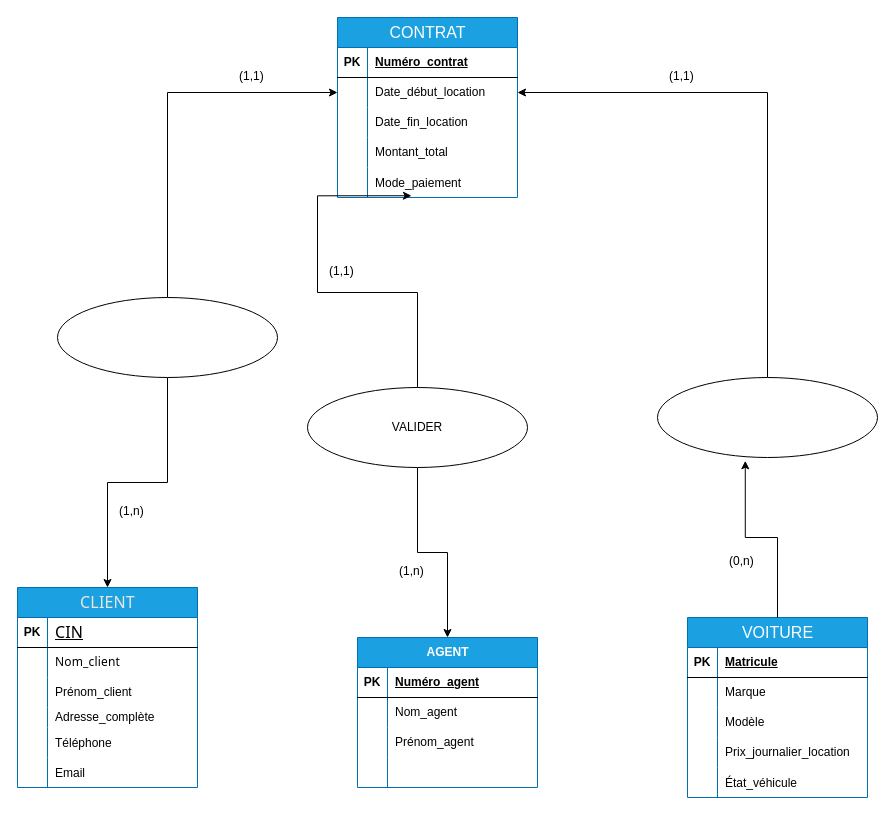
Image size: 895x815. Some labels were removed from this diagram. Each missing label, with the centre of its shape:
CONCERNER: point 767,417
SOUSCRIRE: point 167,337
